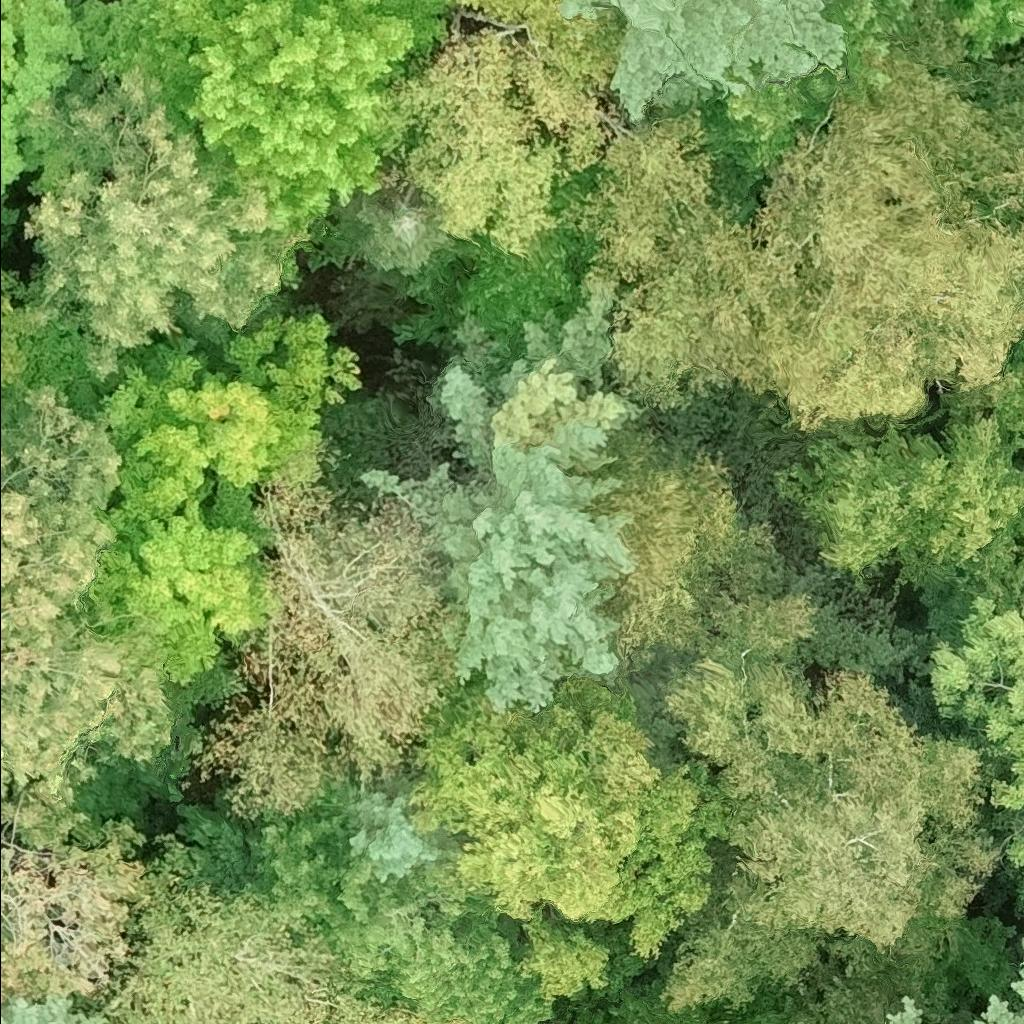crown: (605, 0, 1023, 435), (358, 275, 652, 713), (652, 665, 1006, 1020), (82, 302, 366, 690), (407, 671, 731, 1000), (18, 70, 321, 389), (191, 485, 454, 826), (0, 386, 178, 864), (76, 0, 451, 222), (770, 338, 1023, 616), (244, 808, 553, 1023), (654, 519, 849, 804), (390, 28, 609, 256), (574, 414, 752, 681), (100, 882, 427, 1023), (698, 0, 923, 200), (555, 0, 851, 124), (920, 592, 1023, 920), (0, 812, 161, 1016), (577, 105, 719, 295), (444, 0, 622, 99), (331, 773, 462, 885), (303, 191, 460, 278), (948, 931, 1023, 1023), (939, 0, 1023, 64), (0, 990, 110, 1023), (882, 996, 927, 1023), (565, 1004, 623, 1023), (101, 1007, 162, 1023), (749, 1011, 784, 1023), (699, 1017, 736, 1023), (446, 1019, 468, 1023)
